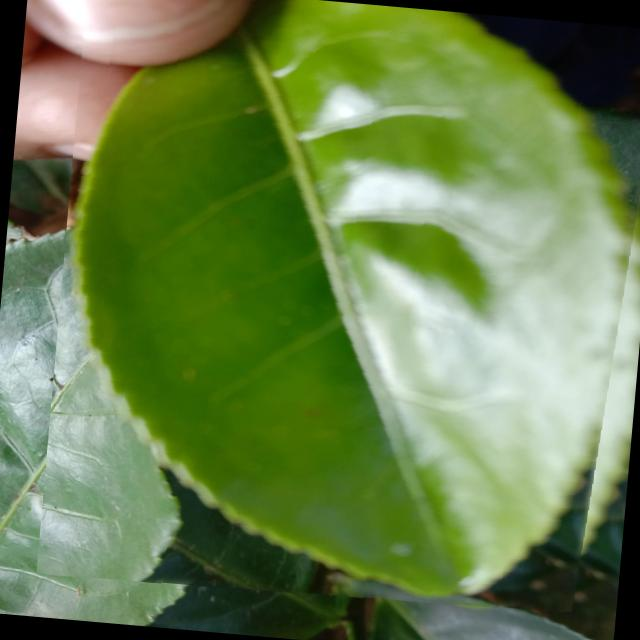Category B 2-4 days: (36, 0, 640, 623)
